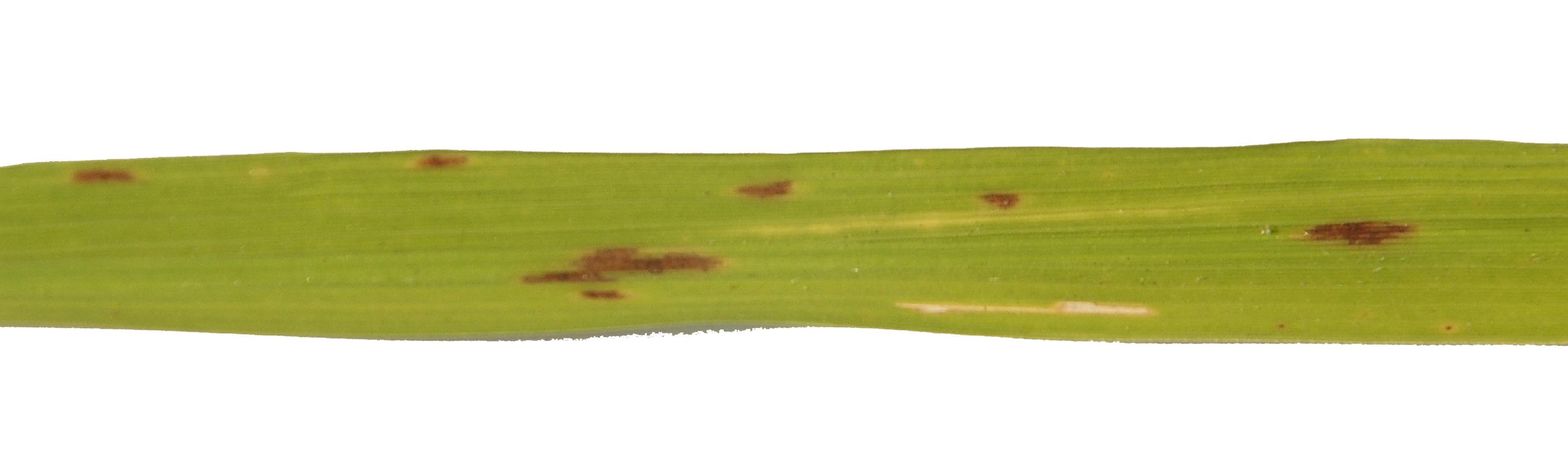Brown spot: (538, 229, 726, 305), (1298, 195, 1418, 268), (63, 159, 161, 205), (412, 154, 487, 193), (735, 173, 806, 214), (1250, 303, 1305, 337), (972, 181, 1008, 227), (1427, 297, 1464, 341)
